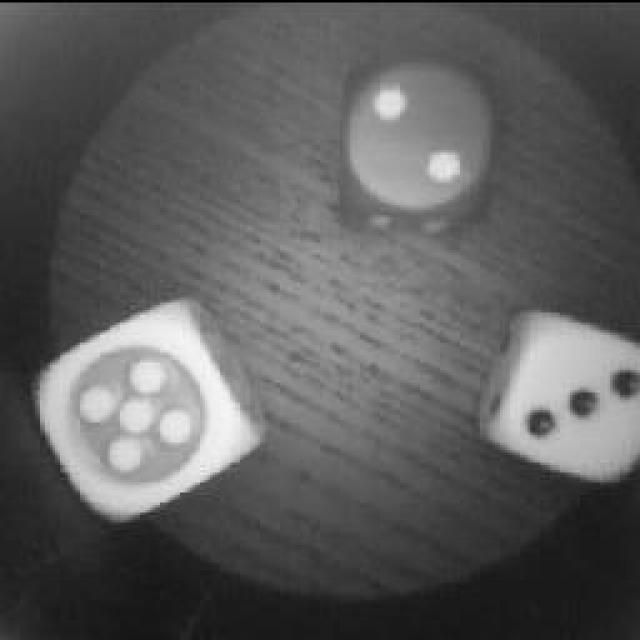dice_2: (325, 48, 505, 238)
dice_3: (477, 297, 640, 490)
dice_5: (25, 292, 255, 512)
